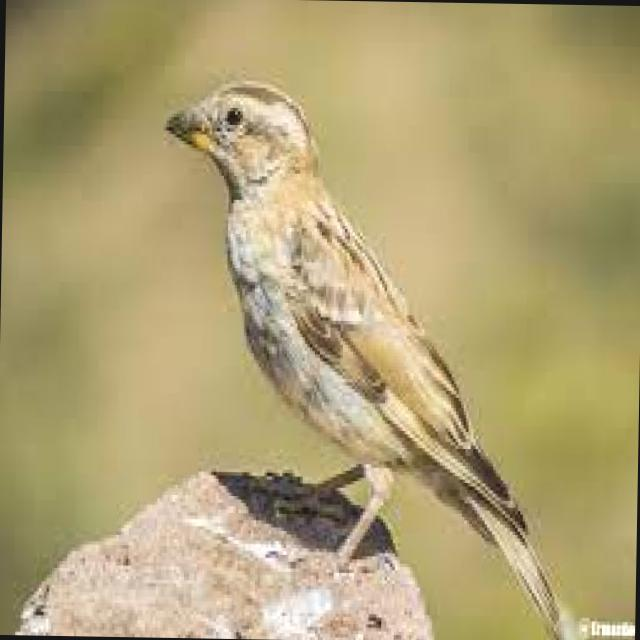bird: (152, 68, 591, 640)
